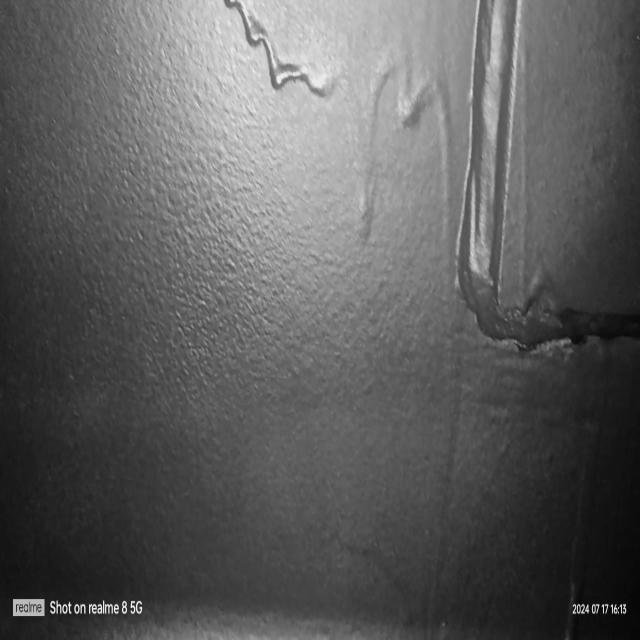paint drips: (212, 0, 468, 292), (552, 330, 611, 640)
